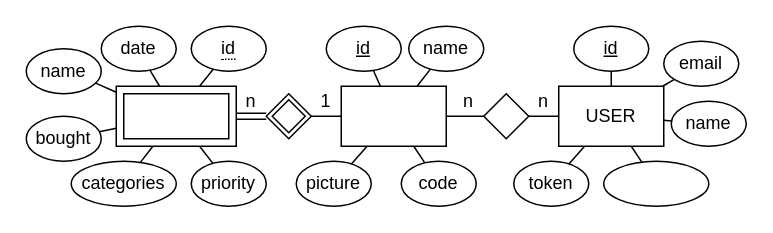
This 773x233 diagram has some shape labels left out. Here are the shapes that lost their labels. From the top down, the box of each, then its label:
(115, 85, 236, 146): PRODUCT
(340, 85, 446, 146): LIST
(602, 160, 709, 206): password
